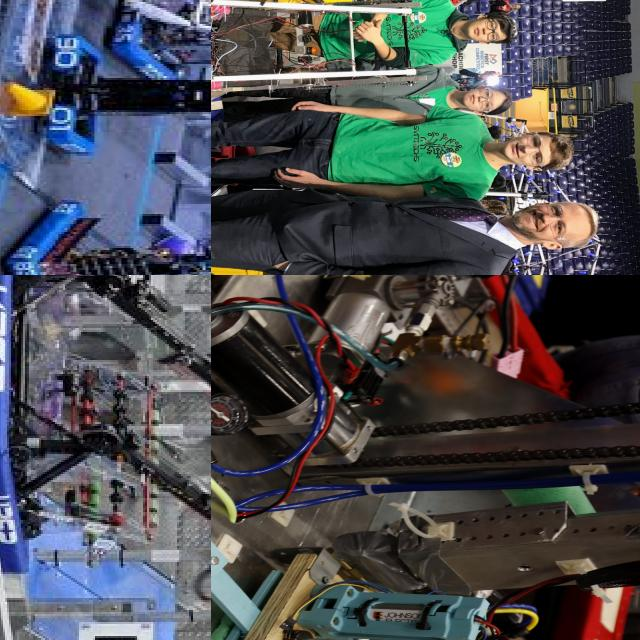FRC-Robots: (211, 275, 640, 640), (0, 275, 211, 602), (211, 0, 424, 139), (0, 199, 211, 275)
